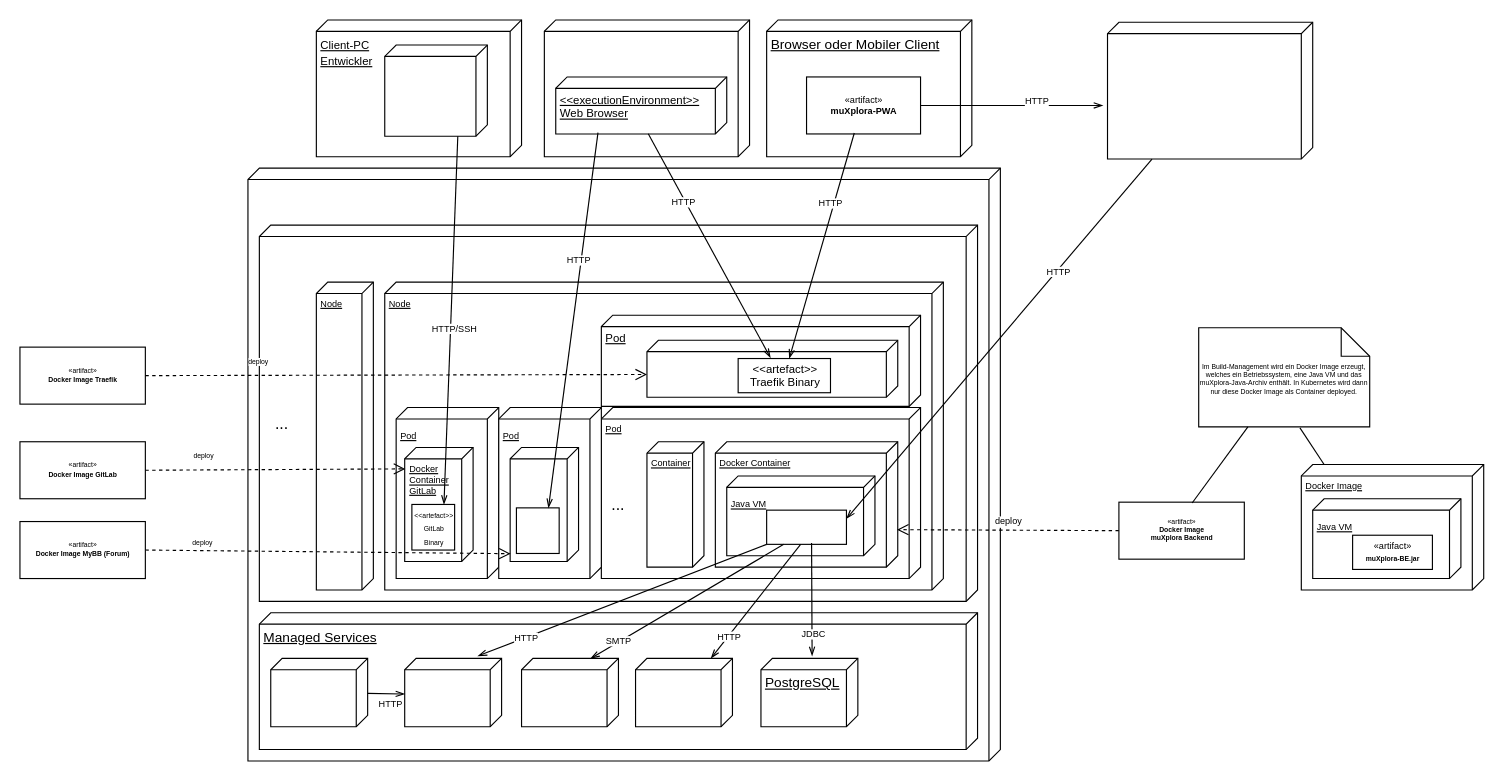
This 1504x781 diagram has some shape labels left out. The box of each missing label's shape, as (x1, y1, x2, y2) in pixels:
<<artefact>> MyBB Binary: (515, 507, 559, 553)
Adserver (extern): (1106, 21, 1313, 159)
Client-PC Nutzer: (543, 19, 750, 157)
Cloudanbieter (AWS, Azure, ...): (247, 167, 1000, 761)
Docker Container MyBB: (509, 446, 579, 561)
Docker Container Traefik: (646, 339, 898, 397)
Grafana: (270, 657, 368, 727)
IDE: (384, 44, 487, 136)
Keycloak: (634, 657, 732, 727)
Mail Service: (520, 657, 618, 727)
Managed Kubernetes Service: (258, 224, 978, 601)
Prometheus: (404, 657, 502, 727)
«artifact» muXplora-BE: (766, 509, 846, 544)
